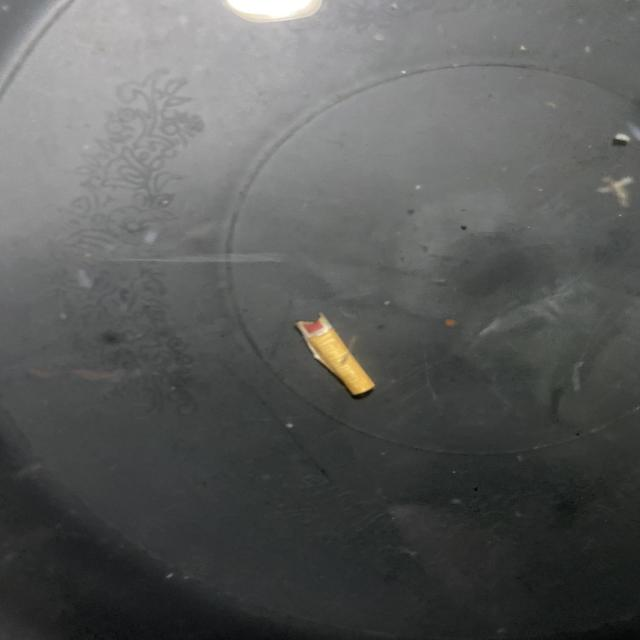Cigarette Filter: (295, 313, 375, 397)
